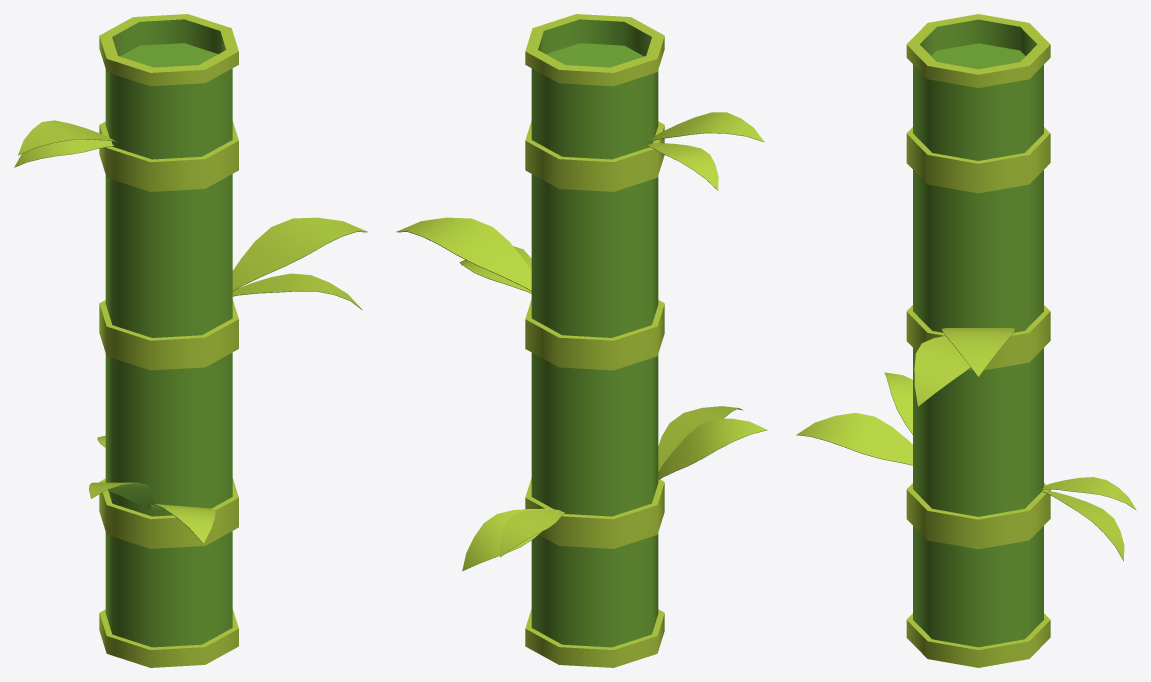
Rendered from Bamboo.fbx.
3 views of the same model, side by side, from view 1: azimuth 30°, elevation 25°; view 2: azimuth 150°, elevation 25°; view 3: azimuth 270°, elevation 25° (orthographic).
Visible parts, largest first — view 1: Cylinder, Plane.004, Plane.009, Plane.014, Plane.015, Plane.011, Plane.010; view 2: Cylinder, Plane.004, Plane.010, Plane.014, Plane.013, Plane.011, Plane.012, Plane.015, Plane.009; view 3: Cylinder, Plane.011, Plane.009, Plane.004, Plane.013, Plane.012, Plane.010.
Boxes of the visible parts, box(x1,y1,x2,y2) form: Cylinder: box(99, 14, 238, 667); Plane.004: box(232, 217, 367, 291); Plane.009: box(232, 273, 362, 309); Plane.014: box(18, 120, 117, 155); Plane.015: box(14, 139, 114, 167); Plane.011: box(150, 504, 215, 543); Plane.010: box(88, 482, 154, 509); Cylinder: box(525, 14, 664, 667); Plane.004: box(396, 217, 531, 291); Plane.010: box(657, 418, 767, 480); Plane.014: box(648, 112, 764, 142); Plane.013: box(462, 508, 550, 571); Plane.011: box(658, 406, 742, 471); Plane.012: box(500, 509, 565, 557); Plane.015: box(646, 143, 718, 190); Plane.009: box(459, 246, 531, 293); Cylinder: box(906, 14, 1050, 667); Plane.011: box(796, 412, 912, 465); Plane.009: box(914, 336, 970, 406); Plane.004: box(941, 328, 1015, 376); Plane.013: box(1041, 491, 1124, 560); Plane.012: box(1042, 477, 1136, 510); Plane.010: box(884, 372, 912, 434).
Bounding box in the file's own units: 121 × 192 × 99.87.
